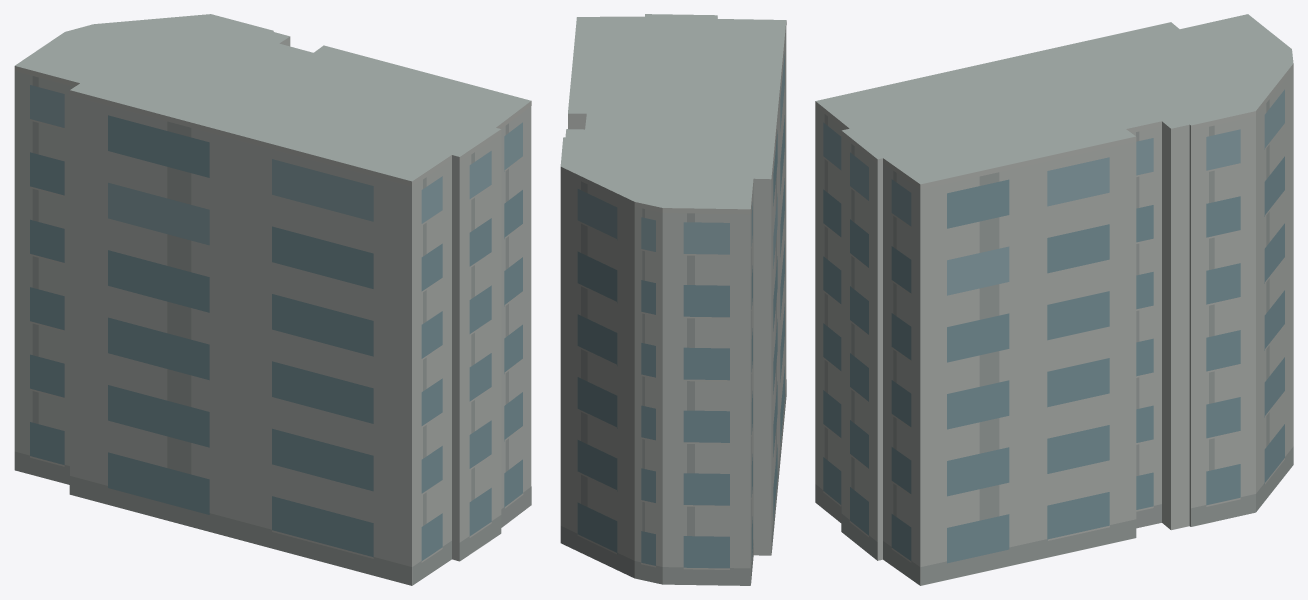
File: survey-upis-32951158.glb
3 renders of one model, left to right at view 1: azimuth 30°, elevation 25°; view 2: azimuth 150°, elevation 25°; view 3: azimuth 270°, elevation 25°, orthographic. The views are drawn at different scales.
Visible parts, largest first — view 1: survey-upis-32951158.tmp; view 2: survey-upis-32951158.tmp; view 3: survey-upis-32951158.tmp.
Part boxes in pixels (left/top/right/bottom): survey-upis-32951158.tmp: left=14, top=14, right=531, bottom=585; survey-upis-32951158.tmp: left=560, top=14, right=786, bottom=585; survey-upis-32951158.tmp: left=815, top=14, right=1293, bottom=585.
Bounding box in the file's own units: 16.99 × 18.65 × 20.14.
